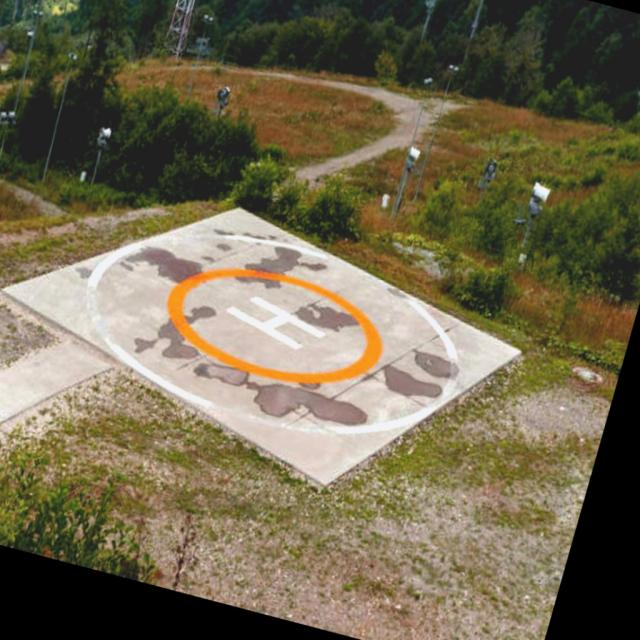helipad: (164, 264, 384, 386)
